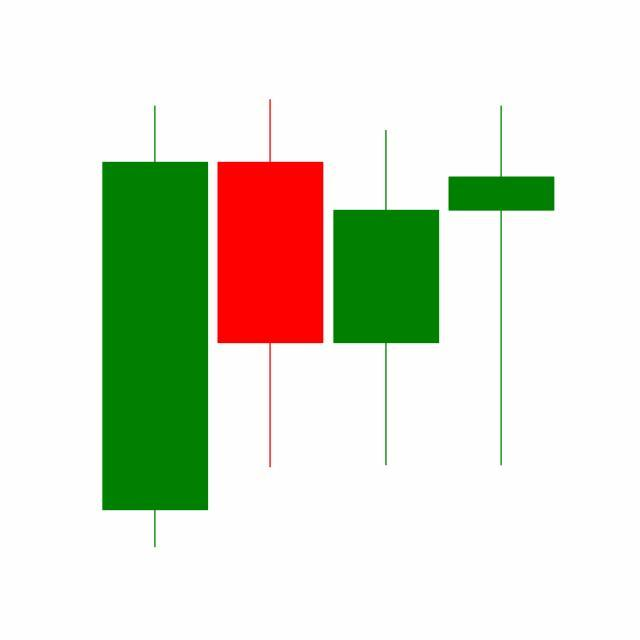Spinning Top: (444, 102, 560, 470)
